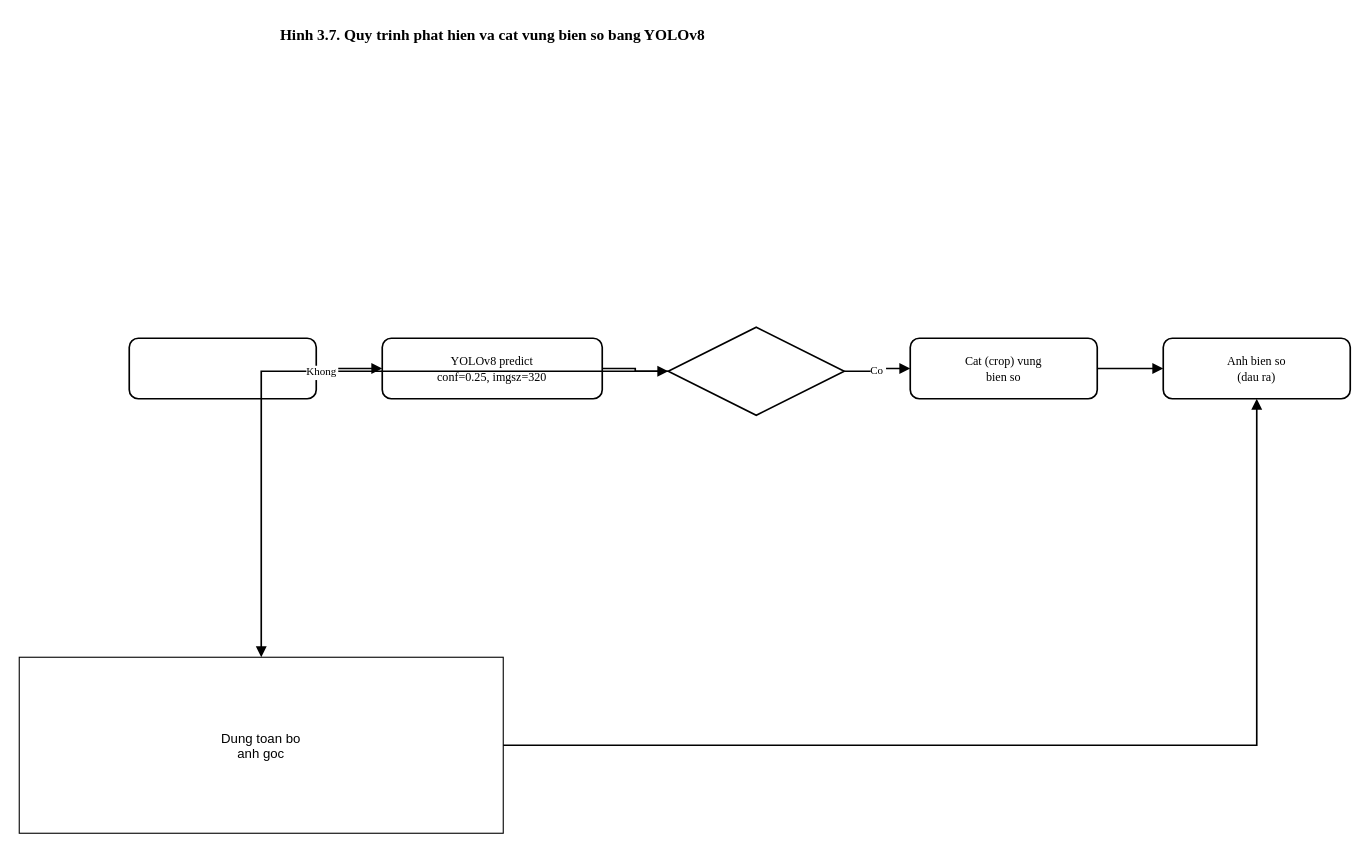
Some shapes in this 1371 by 853 pixel diagram are drawn without their labels. The shapes that lost their labels are listed below. From the top down, each one's box as (x1, y1, x2, y2) in pixels, then its label:
(128, 337, 317, 399): Anh dau vao (tu camera)
(667, 326, 845, 416): Tim thay bounding box?
